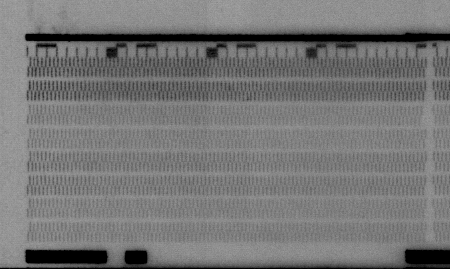Broken hole: (418, 116, 430, 128)
